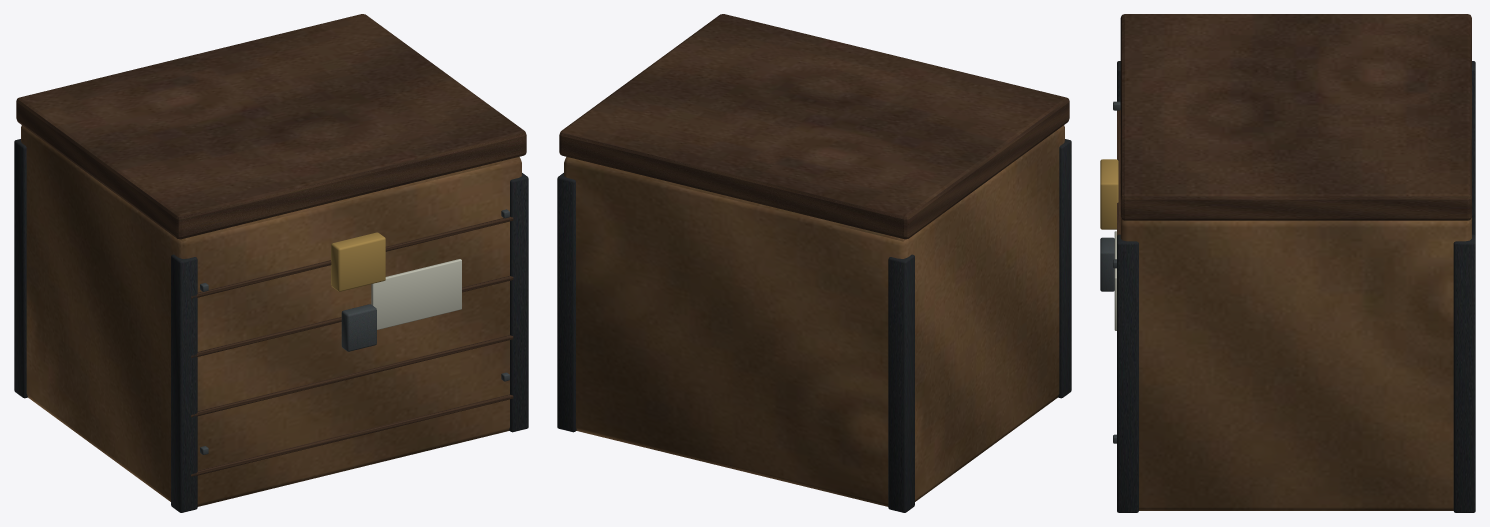
File: prop_crate.glb
3 renders of one model, left to right at view 1: azimuth 30°, elevation 25°; view 2: azimuth 150°, elevation 25°; view 3: azimuth 270°, elevation 25°, orthographic. The views are drawn at different scales.
Parts seen in each view (by area): view 1: PropMesh, Lid; view 2: PropMesh, Lid; view 3: PropMesh, Lid.
Boxes of the visible parts, x1,y1,x2,y2 form: PropMesh: (14,125,528,512); Lid: (16,14,526,239); PropMesh: (557,125,1071,512); Lid: (559,14,1069,239); PropMesh: (1100,61,1475,512); Lid: (1120,14,1471,220).
Bounding box in the file's own units: 1.17 × 0.954 × 1.01.
Materials: 6 (4 with a texture image).
